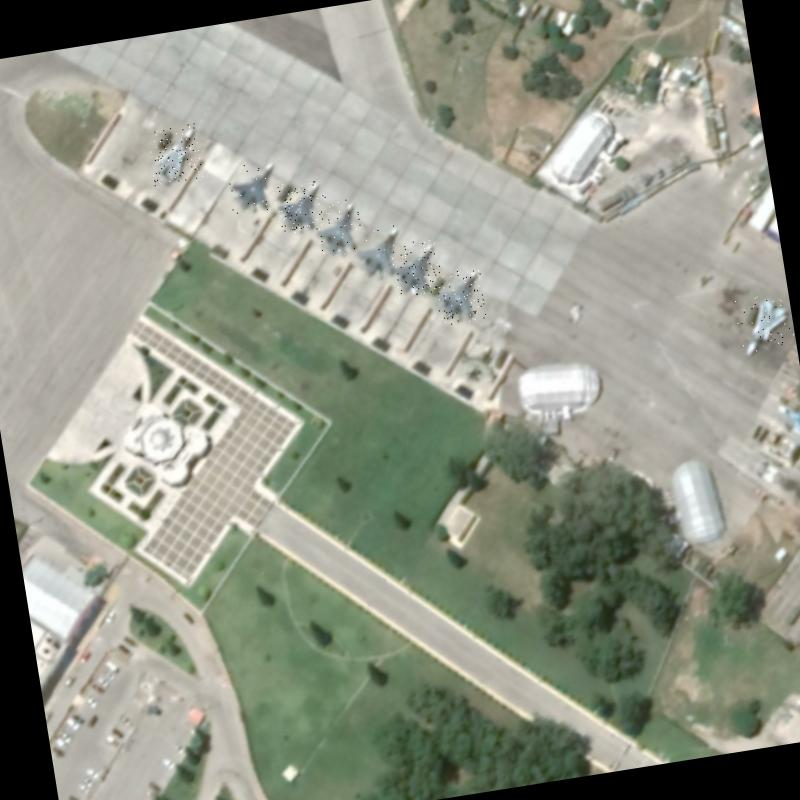A19: (310, 197, 366, 260), (274, 176, 332, 236), (430, 266, 488, 326), (224, 158, 282, 215), (390, 238, 444, 297), (353, 224, 409, 280)
A20: (733, 291, 796, 358), (146, 121, 204, 186)
